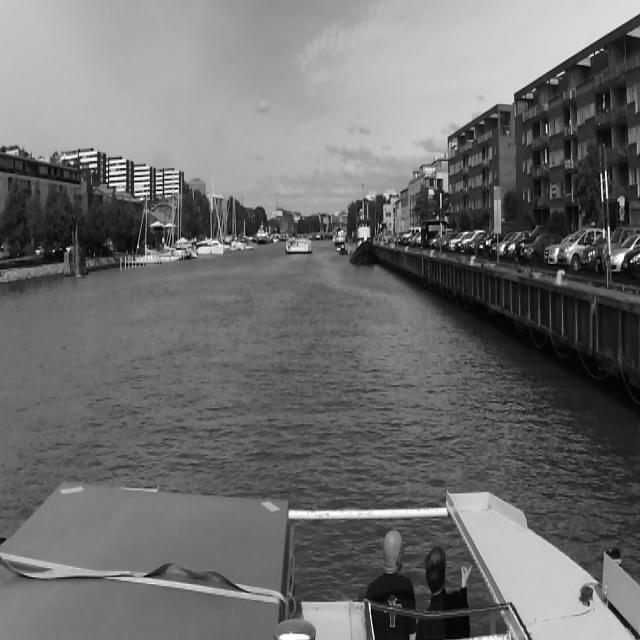ship: (198, 175, 230, 254), (134, 187, 162, 264), (162, 170, 182, 261), (353, 215, 379, 266), (230, 196, 246, 250), (284, 234, 314, 256), (256, 222, 269, 244), (335, 230, 346, 246), (340, 245, 348, 255)
